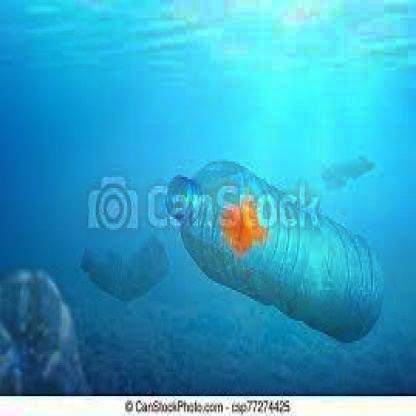pbottle: (152, 155, 387, 343)
